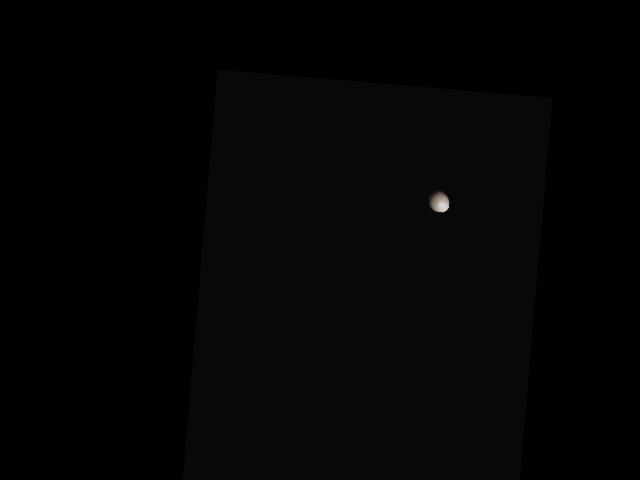egg: (426, 187, 450, 212)
